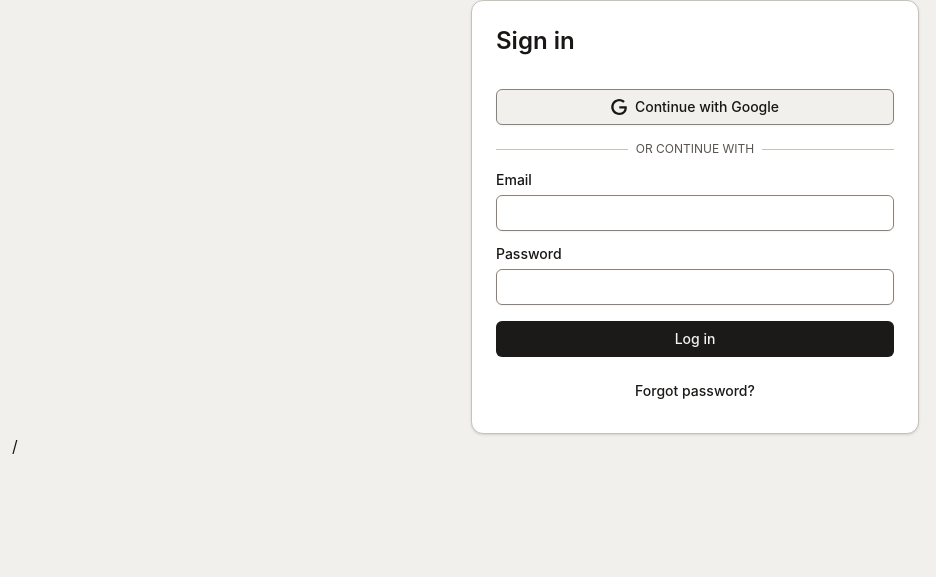
it: Login › asks the user to reconnect when the sign-in request cannot finish
Type "a@b.co" into the field labelled "Email" at (695, 213), box [496,195,894,231]
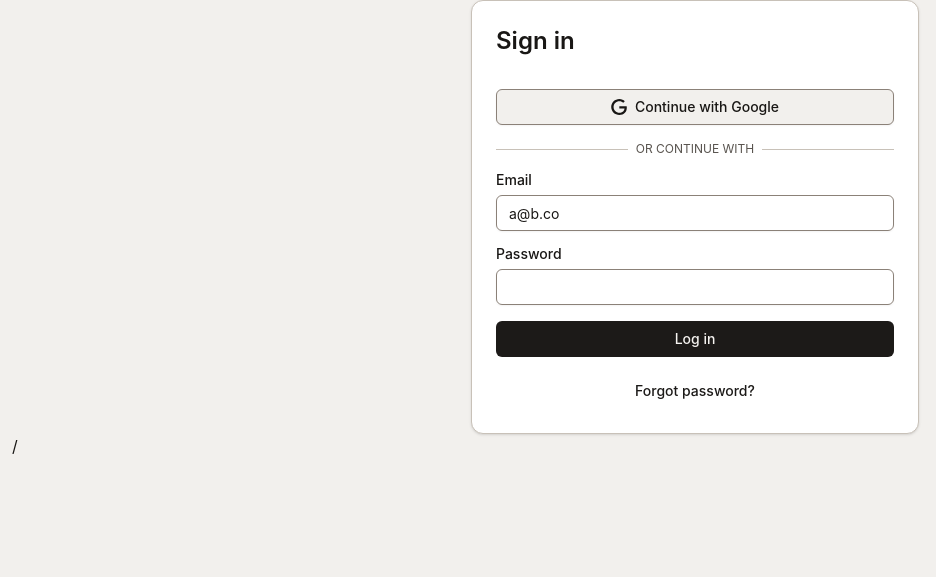
Type "hunter2!" into the password field labelled "Password" at (695, 287), box [496,269,894,305]
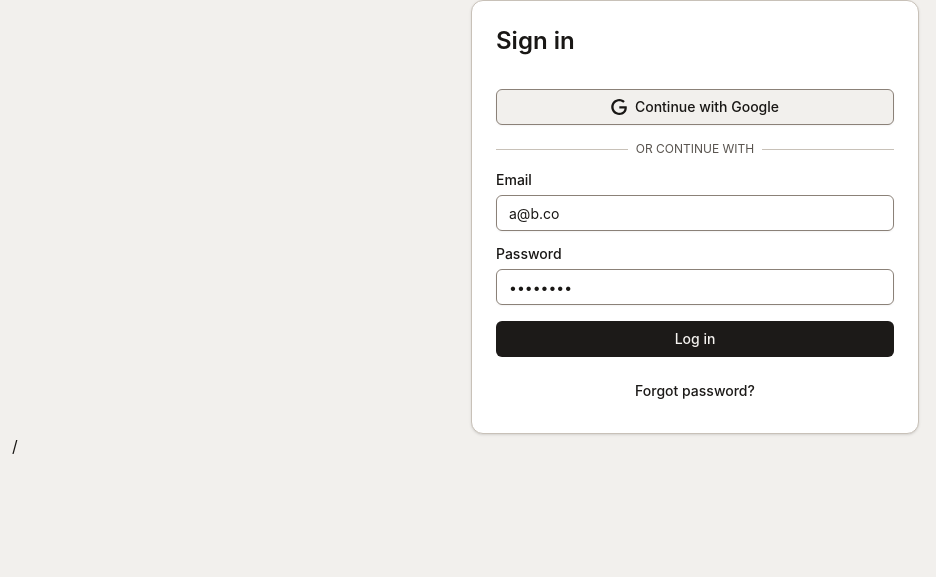
Click the button "Log in" at (695, 339), box [496,321,894,357]
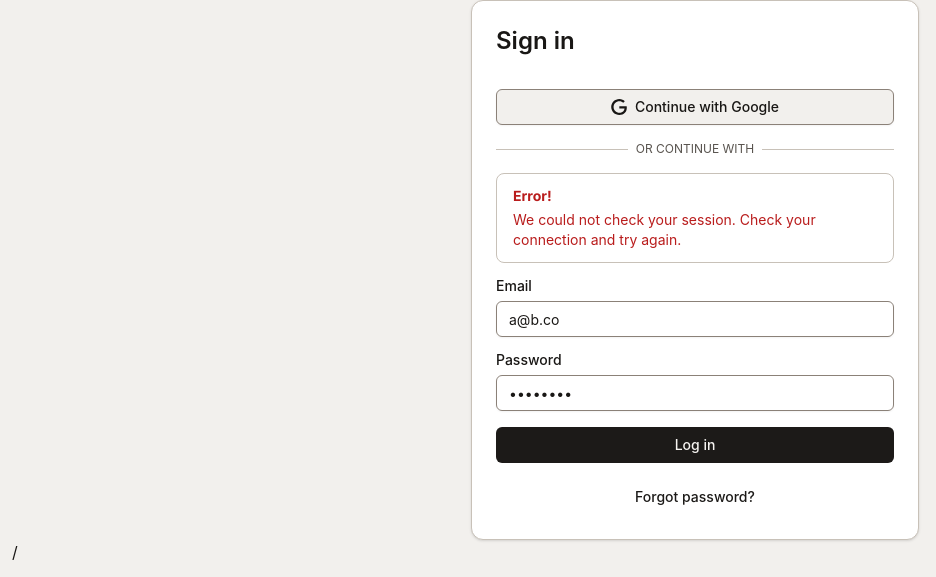
Now the message shows "We could not check your session. Check your connection and try again.", box [513,211,816,248]
